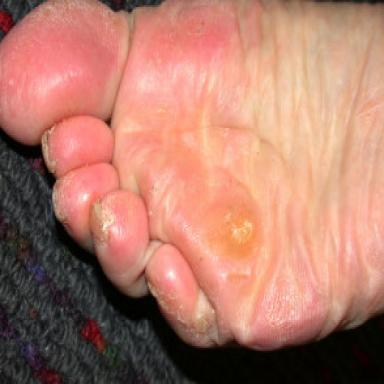eczema: (0, 2, 326, 347)
